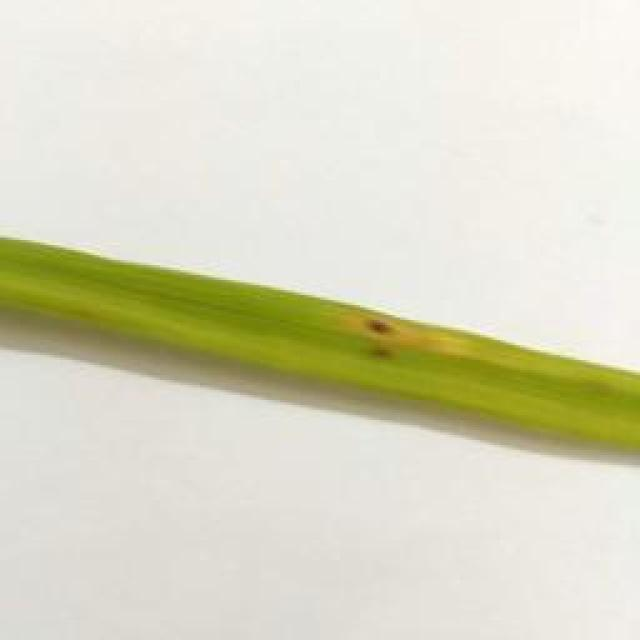Brown_Spot: (357, 306, 424, 365)
